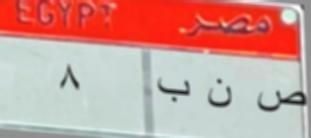8: (52, 63, 85, 91)
baa: (152, 77, 194, 106)
noon: (203, 74, 240, 113)
saad: (257, 83, 307, 118)
